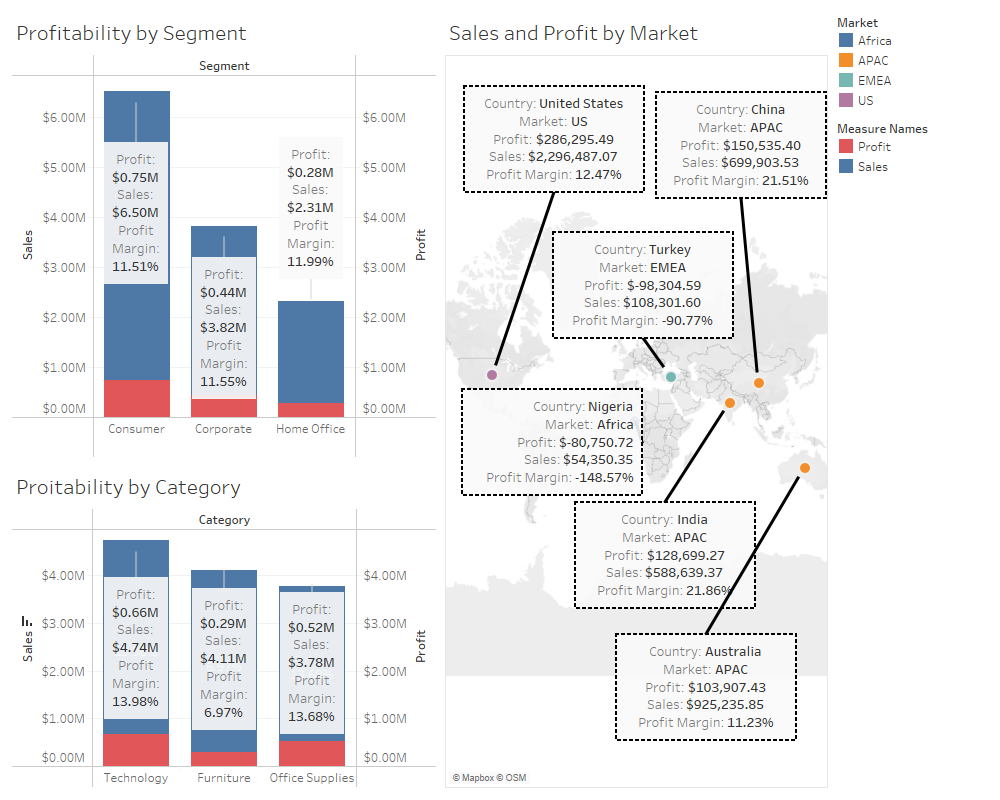

The dashboard page shown, as its layout file describes it:
{"tool":"tableau","page":{"name":"Profitability Overview","canvas":[1000,800],"ordinal":1},"visuals":[{"type":"worksheet","title":"Profitability by Segment","mark":"Bar","rows":["Sales","Profit"],"cols":["Segment"],"box":[8,8,433,454]},{"type":"worksheet","title":"Sales and Profit by Market","mark":"Automatic","box":[441,8,391,784]},{"type":"legend","title":"Sales and Profit by Market","param":"[federated.034txd11y80kzv1bq5ebt0nzog7h].[none:Market:nk]","box":[832,8,160,106]},{"type":"legend","title":"Proitability by Category","param":"[federated.034txd11y80kzv1bq5ebt0nzog7h].[:Measure Names]","box":[832,114,160,66]},{"type":"worksheet","title":"Proitability by Category","mark":"Bar","rows":["Sales","Profit"],"cols":["Category"],"box":[8,462,433,330]}]}

Visuals, with their boxes in screenshot pixels (x1, y1, x2, y2), scaled from the page's 1000x800 canvas onto the 1000x800 screenshot:
"Profitability by Segment" worksheet (Bar marks): bbox=(8, 8, 441, 462)
"Sales and Profit by Market" worksheet: bbox=(441, 8, 832, 792)
"Sales and Profit by Market" legend: bbox=(832, 8, 992, 114)
"Proitability by Category" legend: bbox=(832, 114, 992, 180)
"Proitability by Category" worksheet (Bar marks): bbox=(8, 462, 441, 792)
